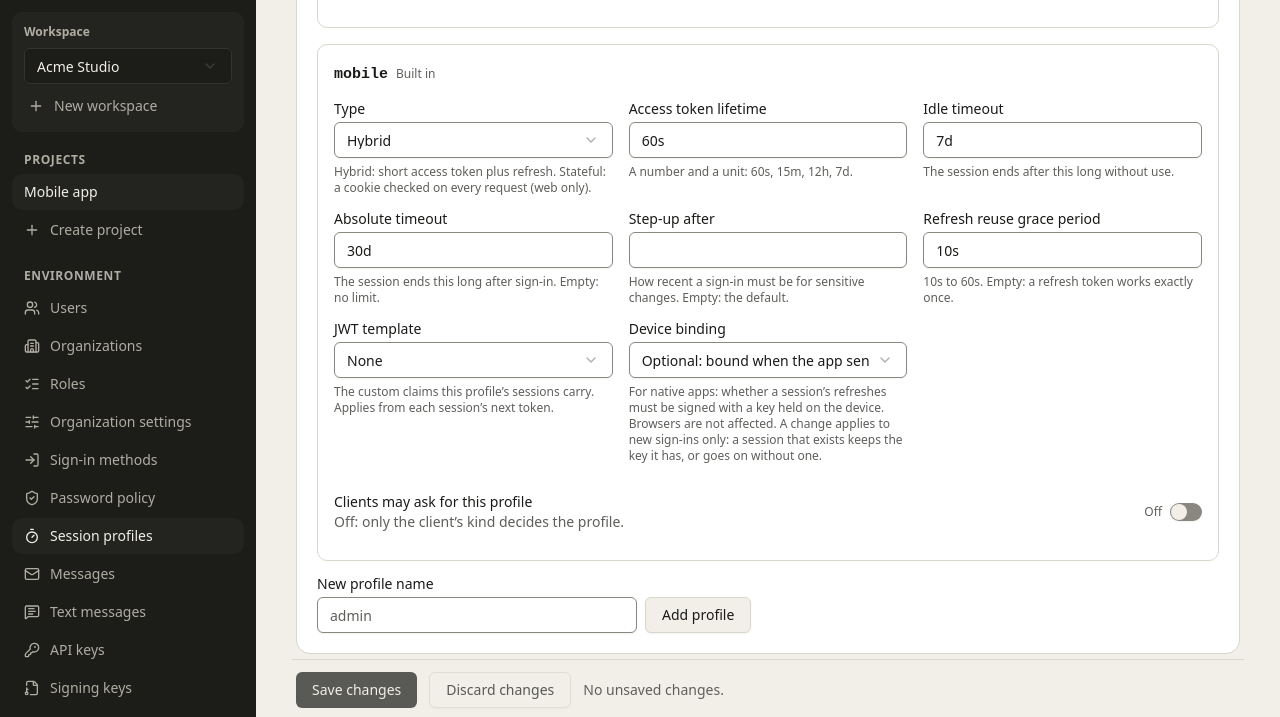
device binding on the session profiles screen › asking for more is saved without a question
The width and height of the screenshot is (1280, 717).
(page scrolled)
Select "Required: no sign-in without a key" in the dropdown labelled "Device binding" at point(768, 360), box [629,342,907,378]
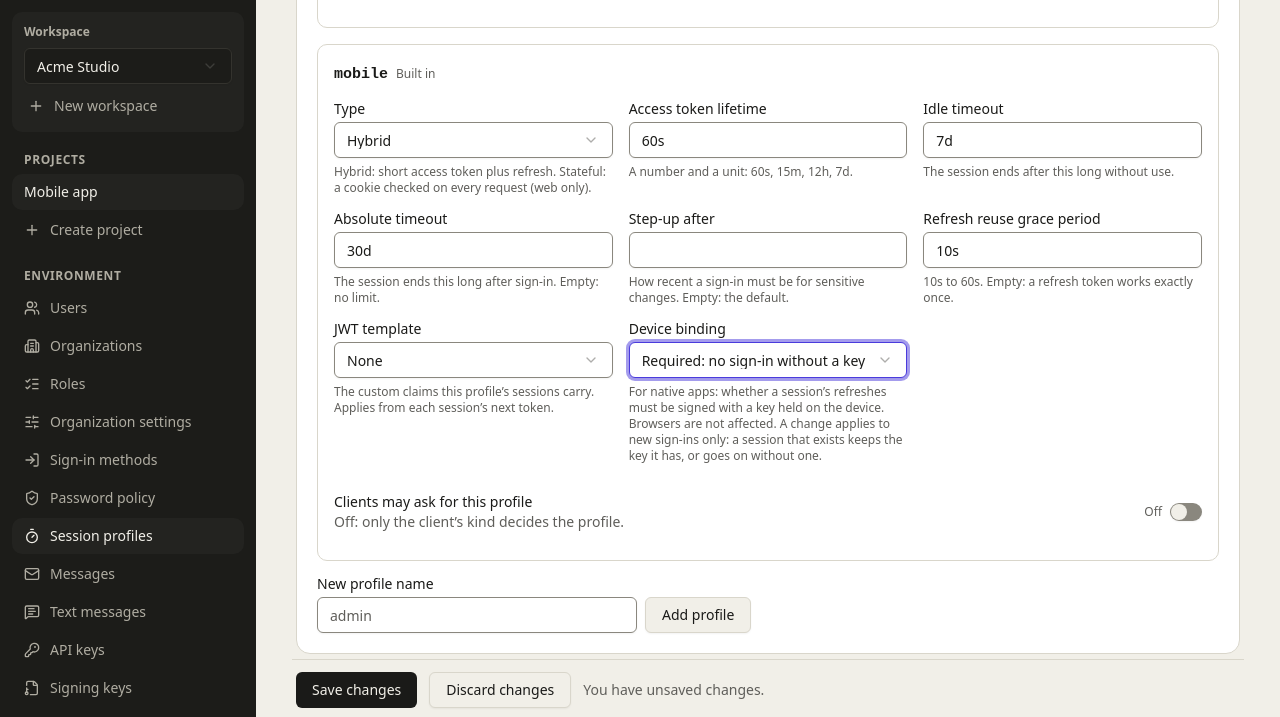
Click the button "Save changes" at point(357, 690), box [296,672,417,708]
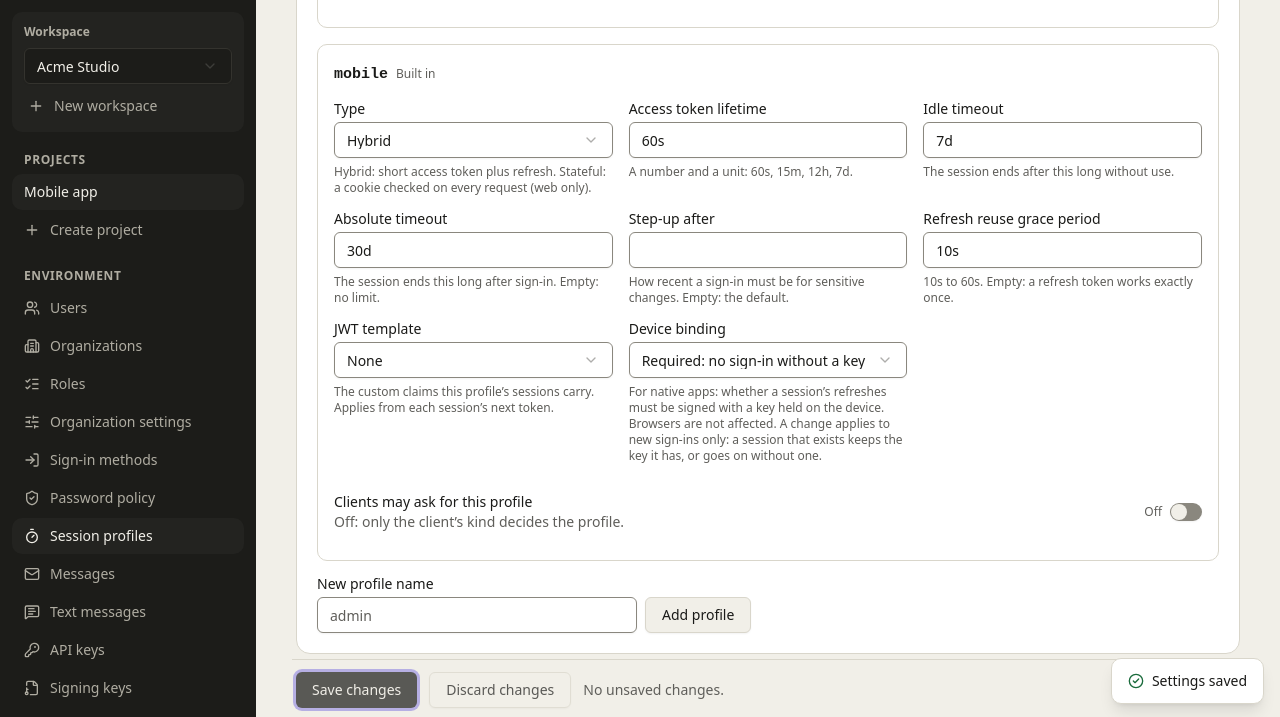
Expected: the list item "Settings saved" is shown, [1111,658,1264,704]
